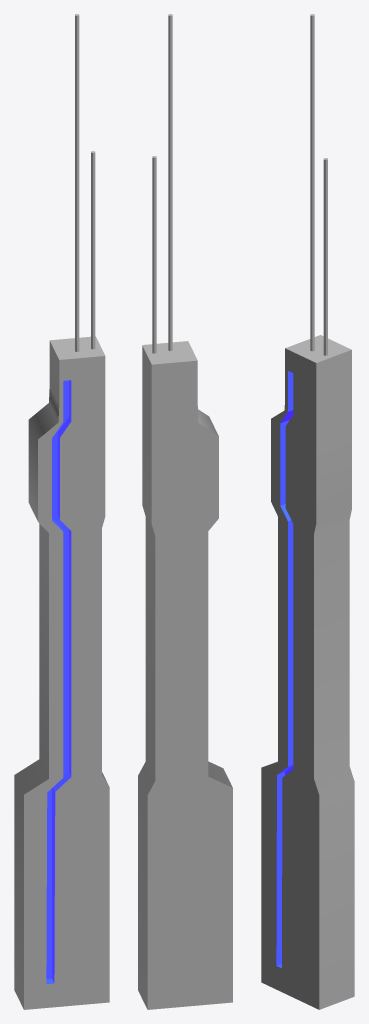
File: mbill3.fbx
The picture shows the model from 3 angles, left to right: view 1: azimuth 30°, elevation 25°; view 2: azimuth 210°, elevation 25°; view 3: azimuth 330°, elevation 25°; orthographic projection.
Visible parts, largest first — view 1: pCylinder50; view 2: pCylinder50; view 3: pCylinder50.
Part boxes in pixels (x1,y1,x2,y2): pCylinder50: [14, 14, 109, 1009]; pCylinder50: [138, 14, 232, 1009]; pCylinder50: [261, 14, 354, 1009].
Bounding box in the file's own units: 314 × 3474 × 233.
